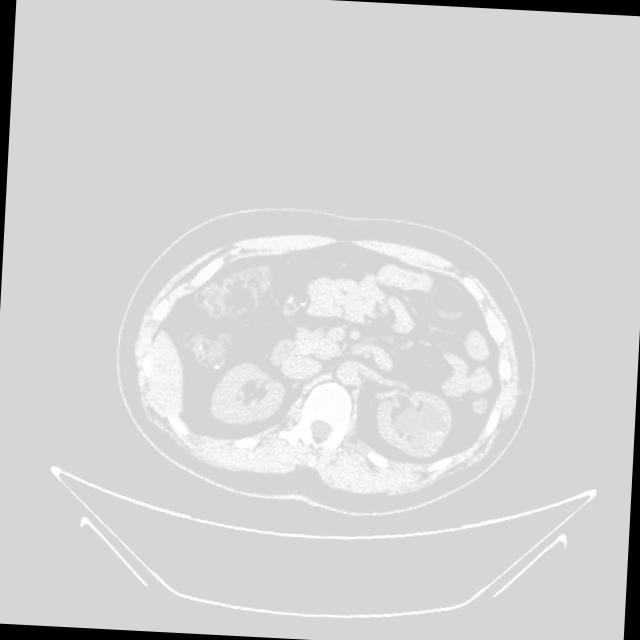cysts: (188, 240, 483, 459)
